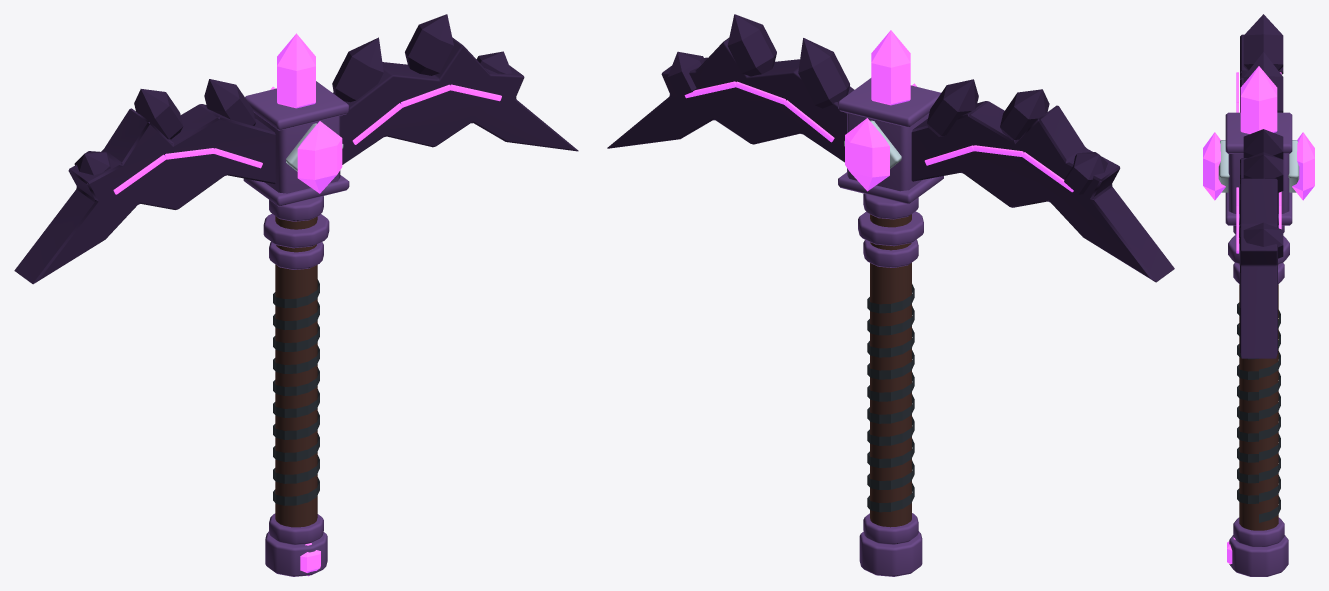
File: obsidiana.glb
The picture shows the model from 3 angles, left to right: view 1: azimuth 30°, elevation 25°; view 2: azimuth 150°, elevation 25°; view 3: azimuth 270°, elevation 25°; orthographic projection. The views are drawn at different scales.
Visible parts, largest first — view 1: obsidiana__Obsidian_glass.001, obsidiana__Amethyst_metal.001, obsidiana__Leather.001, obsidiana__Arcane_violet.001, obsidiana__Blackened_metal.001; view 2: obsidiana__Obsidian_glass.001, obsidiana__Amethyst_metal.001, obsidiana__Leather.001, obsidiana__Arcane_violet.001, obsidiana__Blackened_metal.001; view 3: obsidiana__Obsidian_glass.001, obsidiana__Amethyst_metal.001, obsidiana__Arcane_violet.001, obsidiana__Leather.001, obsidiana__Blackened_metal.001, obsidiana__Steel_edge.001.
Part boxes in pixels (x1,y1,x2,y2): obsidiana__Obsidian_glass.001: [14, 14, 578, 284]; obsidiana__Amethyst_metal.001: [243, 81, 349, 576]; obsidiana__Leather.001: [275, 216, 317, 527]; obsidiana__Arcane_violet.001: [113, 33, 501, 576]; obsidiana__Blackened_metal.001: [273, 279, 319, 505]; obsidiana__Obsidian_glass.001: [607, 14, 1174, 282]; obsidiana__Amethyst_metal.001: [838, 78, 943, 576]; obsidiana__Leather.001: [870, 214, 911, 527]; obsidiana__Arcane_violet.001: [684, 30, 1073, 192]; obsidiana__Blackened_metal.001: [867, 284, 914, 512]; obsidiana__Obsidian_glass.001: [1240, 14, 1283, 358]; obsidiana__Amethyst_metal.001: [1225, 112, 1292, 576]; obsidiana__Arcane_violet.001: [1203, 66, 1314, 564]; obsidiana__Leather.001: [1239, 239, 1278, 530]; obsidiana__Blackened_metal.001: [1237, 302, 1280, 522]; obsidiana__Steel_edge.001: [1218, 140, 1299, 192].
Bounding box in the file's own units: 3.9 × 3.65 × 0.7359.
